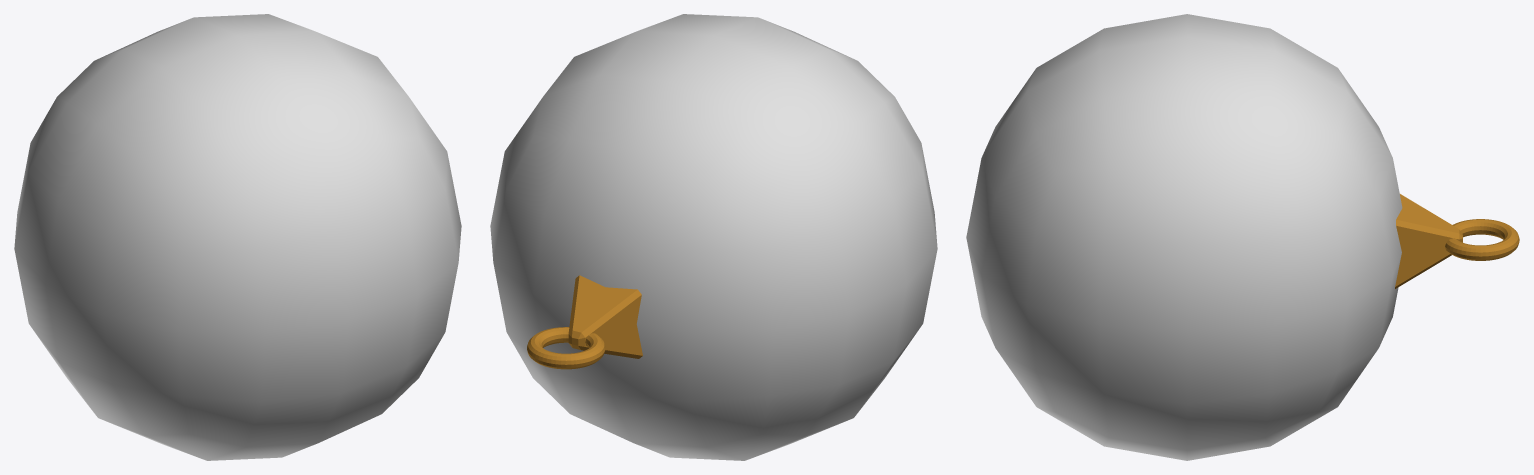
The model's file is Ball_1.fbx.
3 views of the same model, side by side, from view 1: azimuth 30°, elevation 25°; view 2: azimuth 150°, elevation 25°; view 3: azimuth 270°, elevation 25° (orthographic).
Parts seen in each view (by area): view 1: Cube.004; view 2: Cube.004; view 3: Cube.004.
Boxes of the visible parts, bbox=[...] form: Cube.004: bbox=[14, 14, 461, 460]; Cube.004: bbox=[490, 14, 937, 460]; Cube.004: bbox=[966, 14, 1519, 460].
Bounding box in the file's own units: 0.2933 × 0.2933 × 0.3674.
